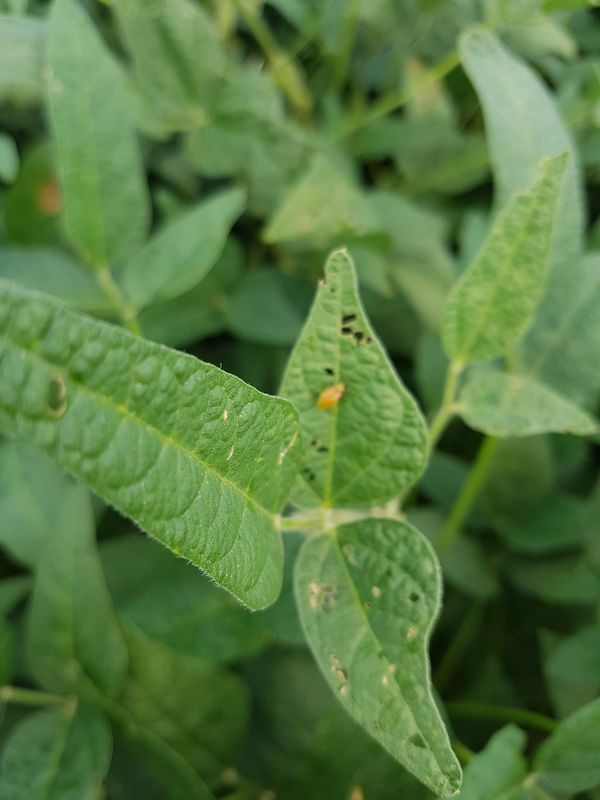Diabrotica_speciosa: (300, 372, 359, 422)
